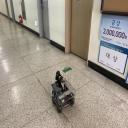cart: (50, 80, 76, 114)
